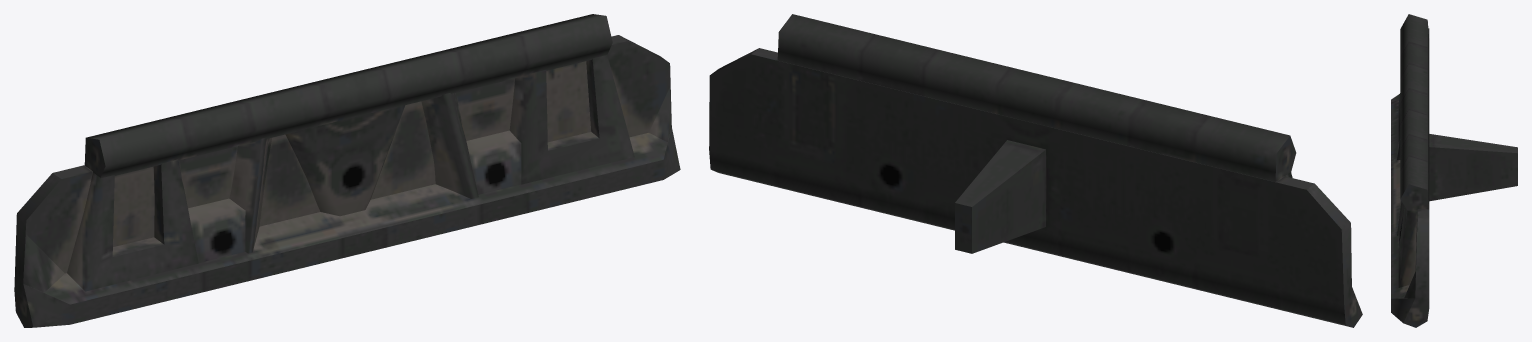
The picture shows the model from 3 angles, left to right: view 1: azimuth 30°, elevation 25°; view 2: azimuth 150°, elevation 25°; view 3: azimuth 270°, elevation 25°; orthographic projection. The views are drawn at different scales.
Parts seen in each view (by area): view 1: set_0_group_0; view 2: set_0_group_0; view 3: set_0_group_0.
Part boxes in pixels (x1,y1,x2,y2): set_0_group_0: (14, 14, 680, 327); set_0_group_0: (709, 14, 1362, 327); set_0_group_0: (1391, 14, 1517, 327).
Bounding box in the file's own units: 0.6704 × 0.1733 × 0.1656.
Materials: 1 (1 with a texture image).
